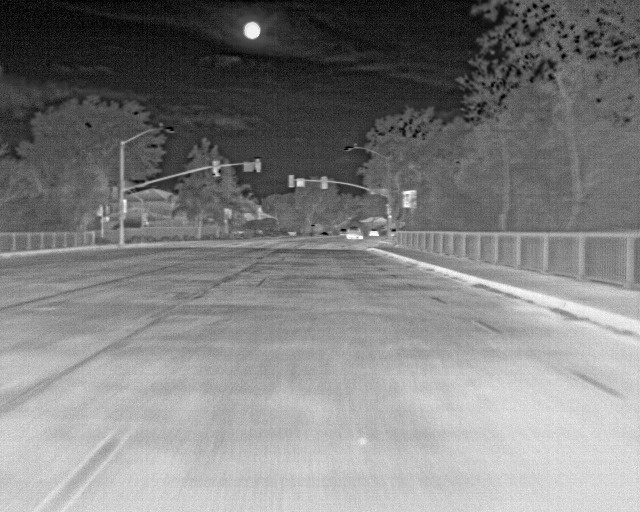vehicle: (346, 225, 365, 239)
